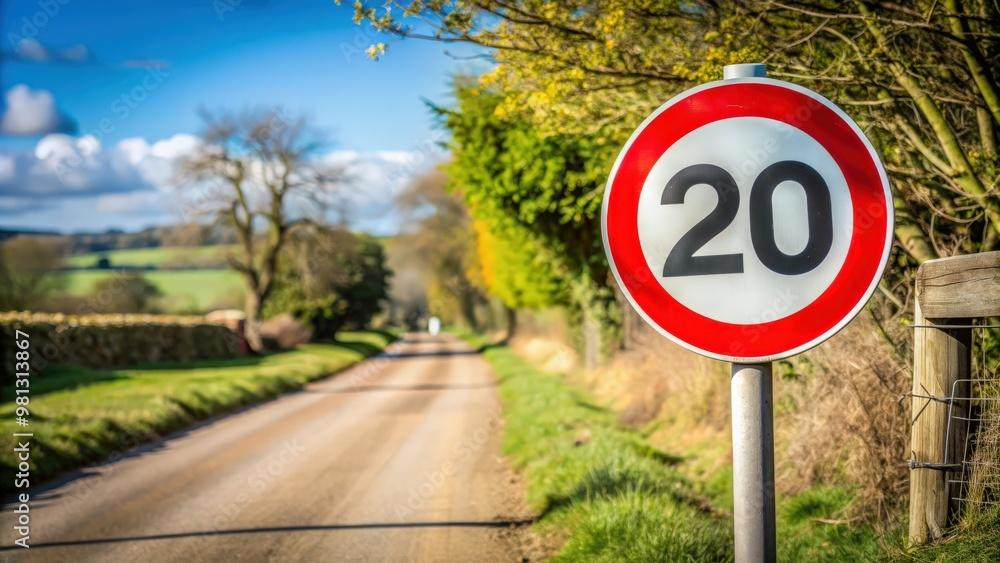speed-limit: (604, 79, 896, 361)
